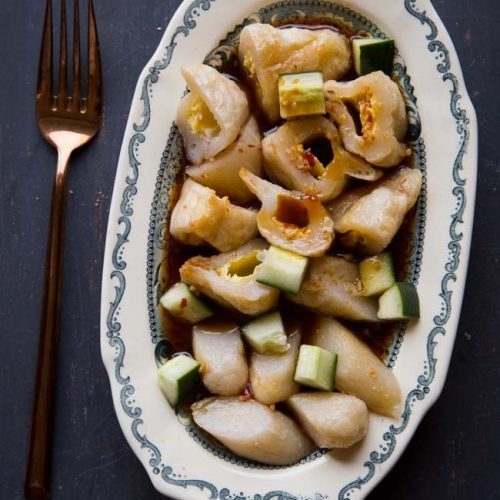pempek: (170, 14, 427, 475)
